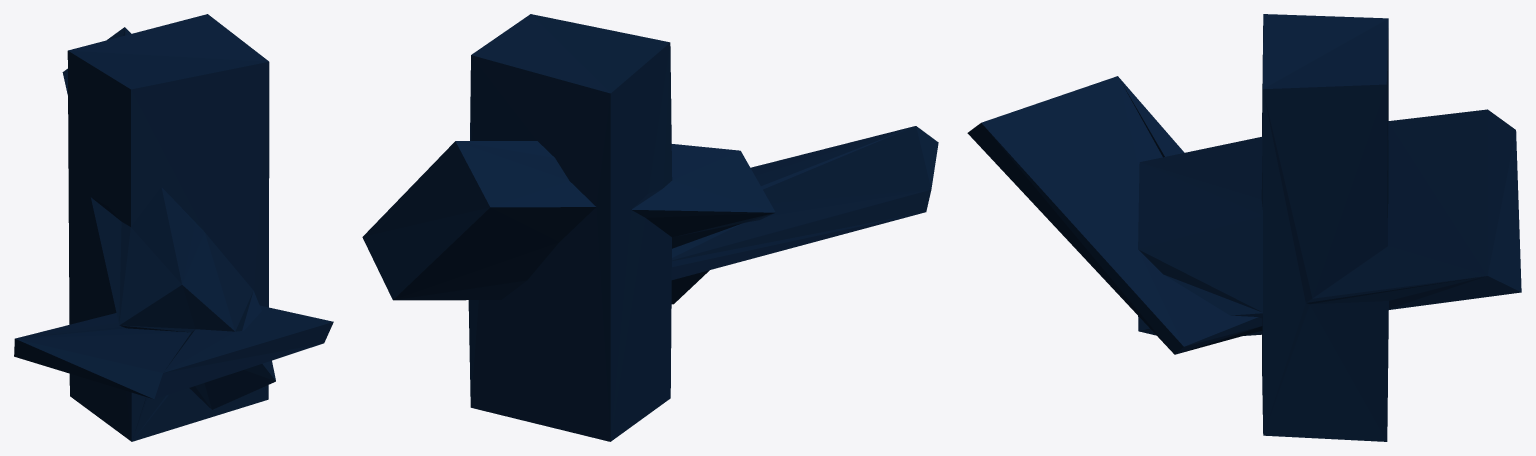
3 views of the same model, side by side, from view 1: azimuth 30°, elevation 25°; view 2: azimuth 150°, elevation 25°; view 3: azimuth 270°, elevation 25° (orthographic). The views are drawn at different scales.
Parts seen in each view (by area): view 1: 240_Cube.986; view 2: 240_Cube.986; view 3: 240_Cube.986.
Boxes of the visible parts, x1,y1,x2,y2 form: 240_Cube.986: [14, 14, 333, 441]; 240_Cube.986: [362, 14, 938, 441]; 240_Cube.986: [967, 14, 1521, 441].
Size of the model in its own units: 13.87 by 12.25 by 16.97.
